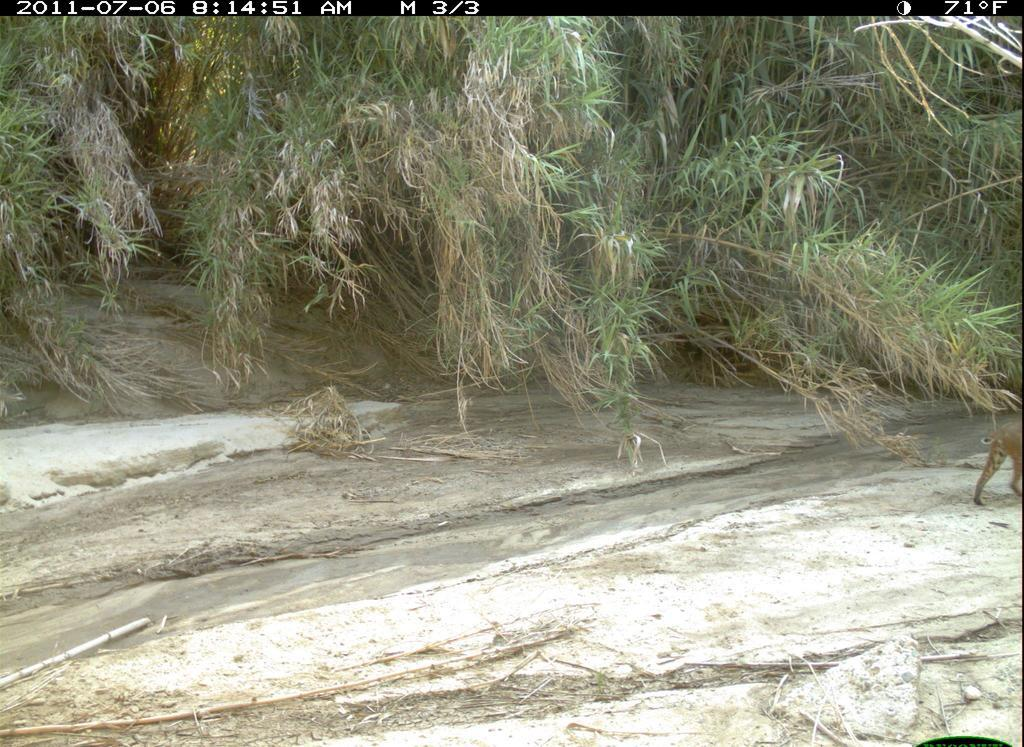bobcat: (962, 415, 1023, 510)
